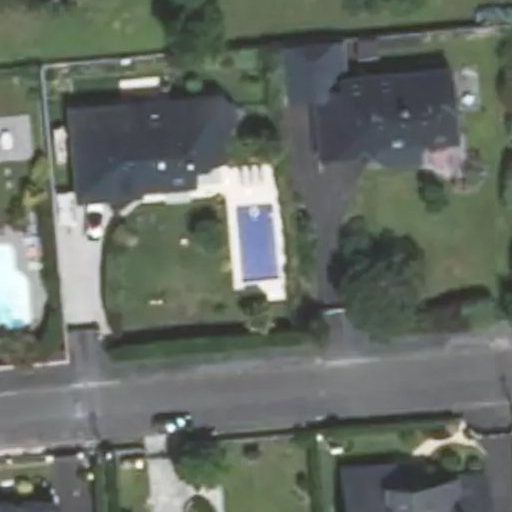pool: (234, 204, 277, 279)
